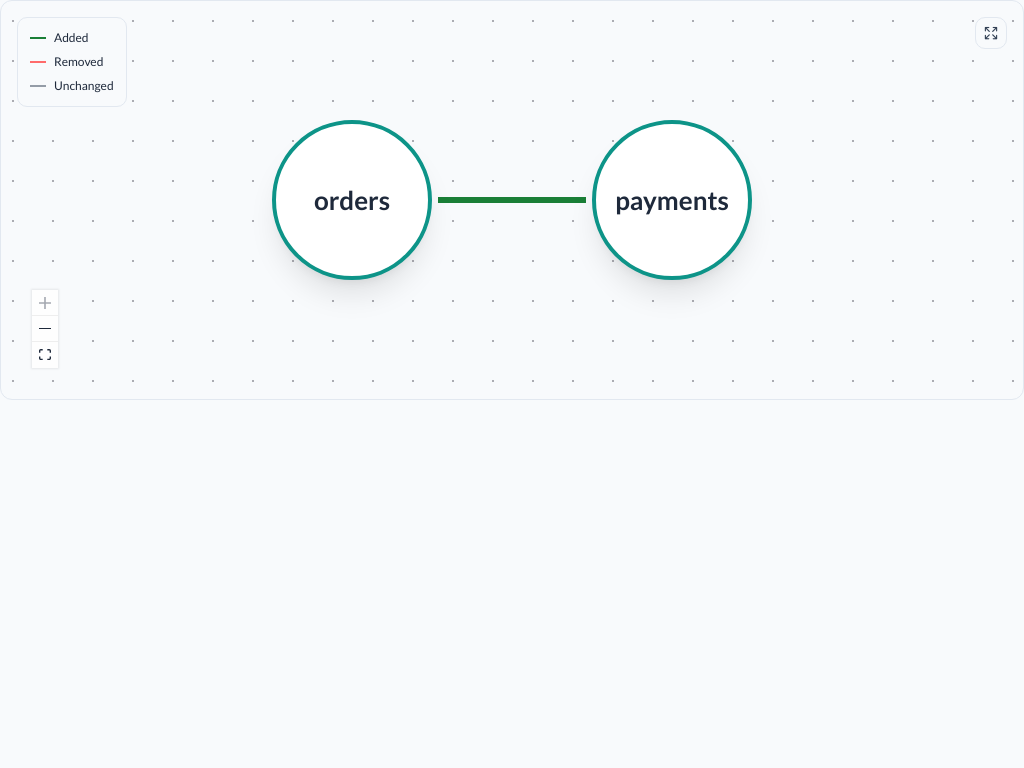
DomainConnectionDiff › fullscreen modal › closes fullscreen modal when close button is clicked
This screenshot has width=1024, height=768.
Click the button named "expand" at [991, 33], box [975,17,1007,49]
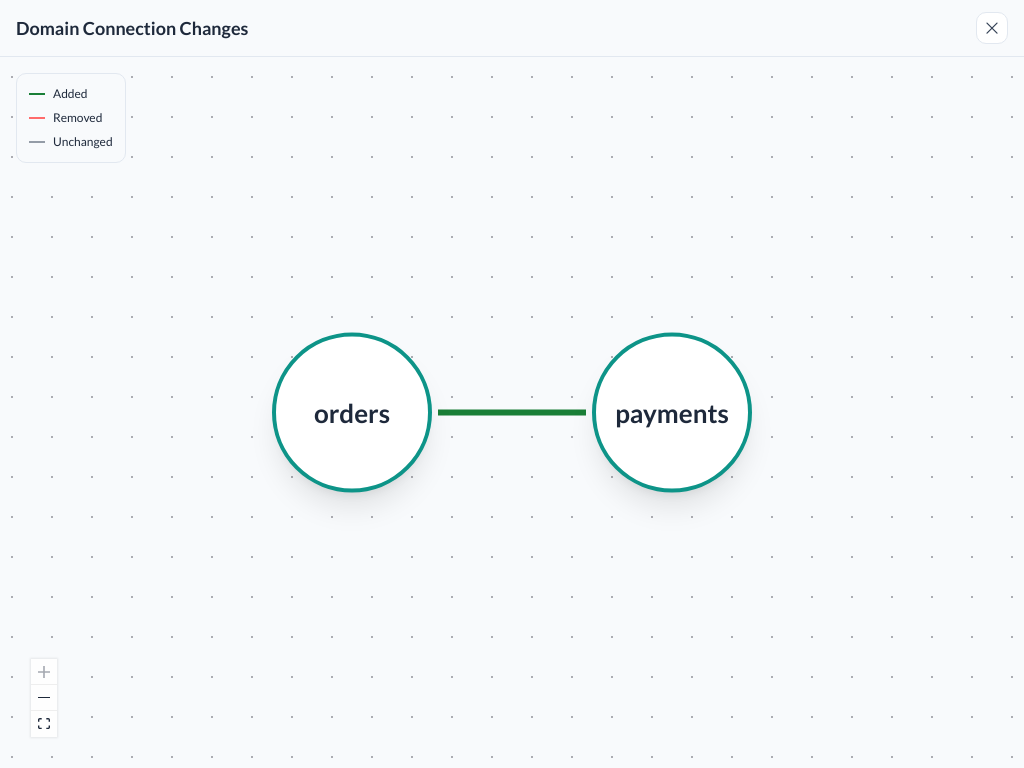
Expected: the dialog is shown
Click the button named "close" at [992, 28], box [976,12,1008,44]
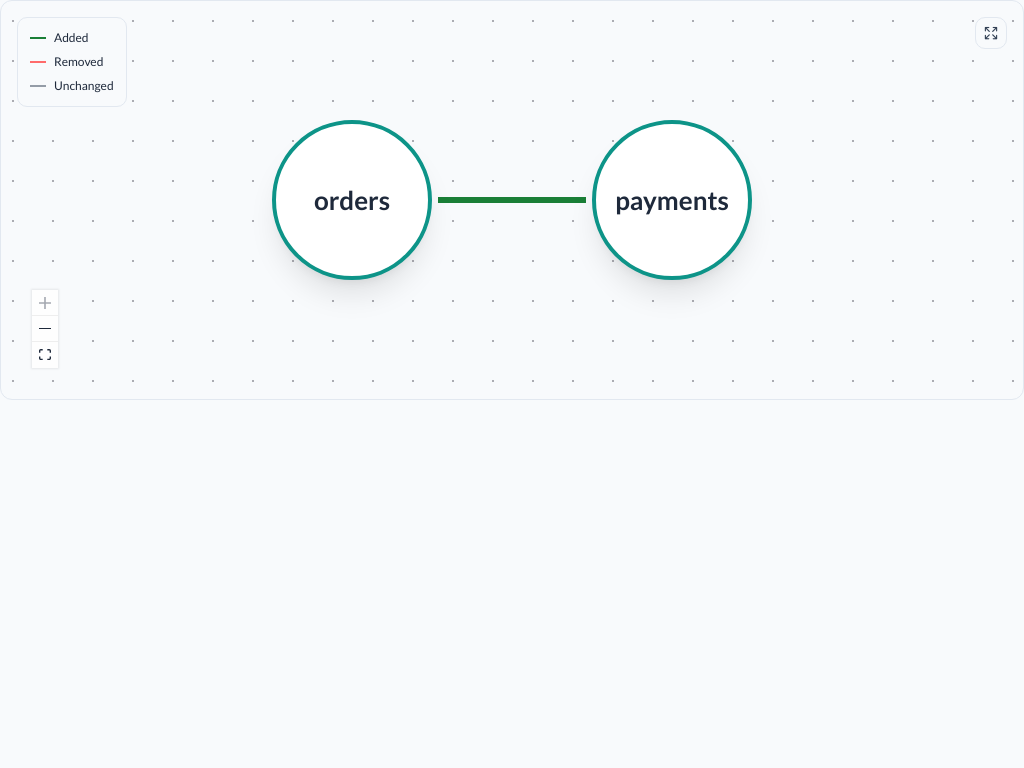
Expected: the dialog is gone
